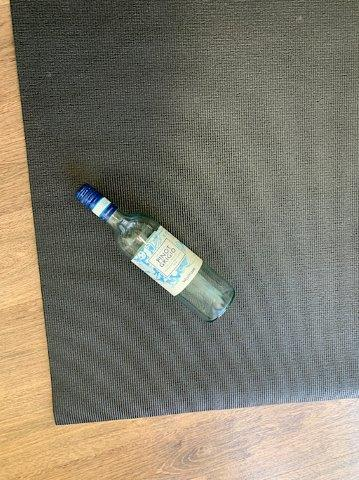botolkaca: (75, 184, 235, 321)
